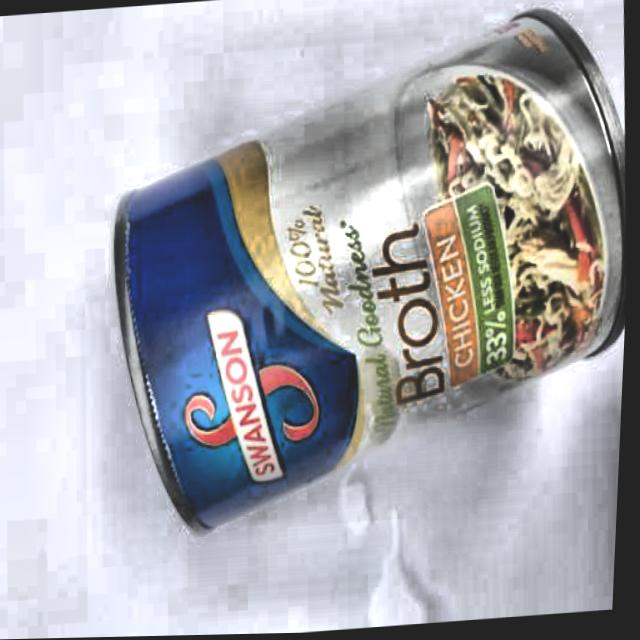Cans: (76, 0, 640, 557)
